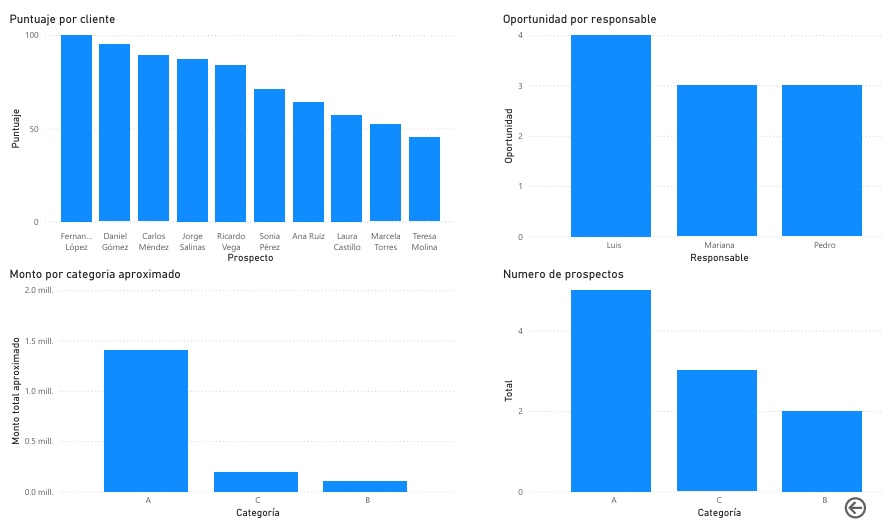

Layout of this report page (visuals, bound fields, positions):
{"tool":"powerbi","page":{"name":"Página 1","canvas":[1280,720],"ordinal":0},"visuals":[{"type":"columnChart","title":"Puntuaje por cliente","fields":{"Y":["Sum(prospectos_scoring.Score)"],"Category":["prospectos_scoring.Prospecto"]},"box":[0,0,640.4,360],"z":0},{"type":"columnChart","title":"Oportunidad por responsable","fields":{"Category":["prospectos_scoring.Responsable"],"Y":["Count(prospectos_scoring.Prospecto)"]},"box":[696.8,0,584,360],"z":1000},{"type":"columnChart","title":"Numero de prospectos","fields":{"Category":["prospectos_scoring.Categoría"],"Y":["CountNonNull(prospectos_scoring.Categoría)"]},"box":[696.8,360,584,360],"z":2000},{"type":"actionButton","box":[1180,680,100,40],"z":4000},{"type":"clusteredColumnChart","title":"Monto por categoria aproximado","fields":{"Y":["Sum(prospectos_scoring.monto estimado )"],"Category":["prospectos_scoring.Categoría"]},"box":[0,360,640,360],"z":4001}]}

Visuals, with their boxes on the page's 1280x720 design canvas (x1, y1, x2, y2). These are canvas units, not pixel positions in the 883x523 screenshot, which may show the page scaled, cropped or inside an application window:
"Puntuaje por cliente" columnChart: box(0, 0, 640, 360)
"Oportunidad por responsable" columnChart: box(697, 0, 1281, 360)
"Numero de prospectos" columnChart: box(697, 360, 1281, 720)
actionButton: box(1180, 680, 1280, 720)
"Monto por categoria aproximado" clusteredColumnChart: box(0, 360, 640, 720)
